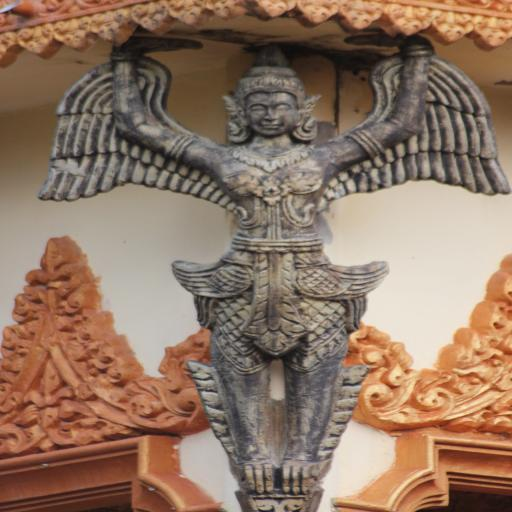la: (0, 239, 110, 374), (438, 277, 512, 435), (99, 339, 197, 437), (359, 329, 452, 428), (0, 374, 80, 452), (16, 22, 72, 60), (378, 2, 434, 34), (93, 8, 140, 43), (429, 2, 470, 41), (469, 16, 512, 53), (341, 0, 387, 31), (133, 0, 177, 31), (294, 0, 340, 25), (62, 18, 94, 51), (172, 0, 210, 27), (208, 0, 246, 24), (257, 0, 301, 18), (0, 30, 17, 74)
than: (100, 34, 470, 492)
